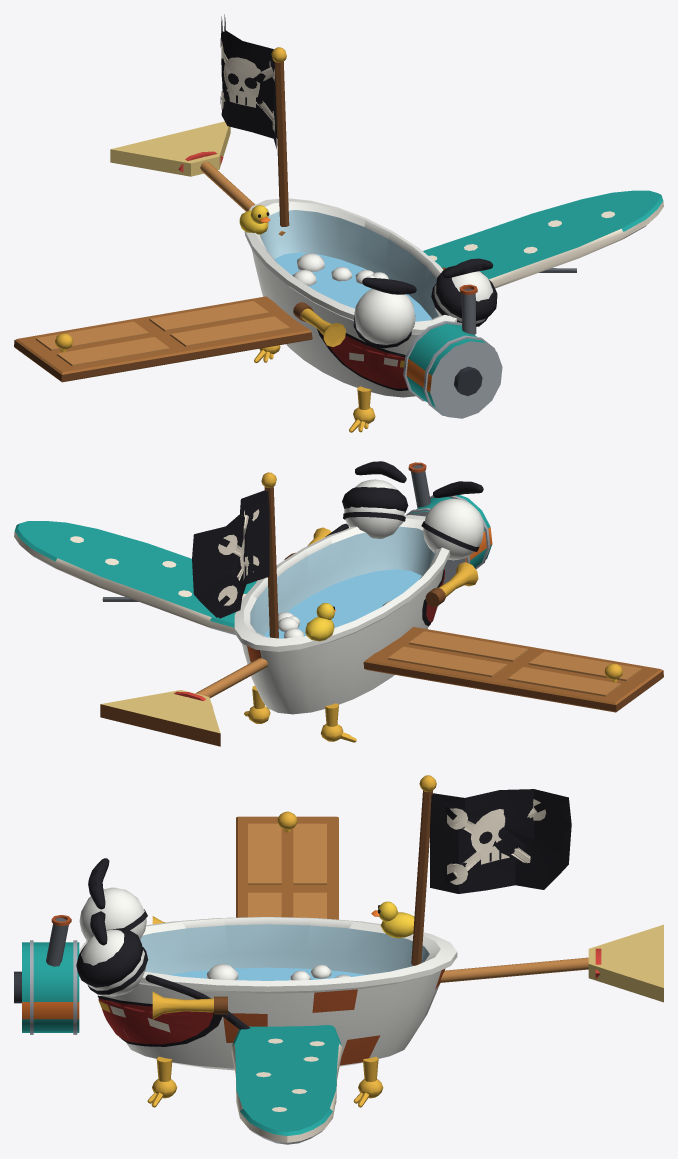
Rendered from PirataBanera.fbx.
3 views of the same model, one above another, from view 1: azimuth 30°, elevation 25°; view 2: azimuth 150°, elevation 25°; view 3: azimuth 270°, elevation 25° (orthographic). The views are drawn at different scales.
Parts seen in each view (by area): view 1: PirataBanera; view 2: PirataBanera; view 3: PirataBanera.
Part boxes in pixels (<box>): PirataBanera: <box>14,14,663,432</box>; PirataBanera: <box>14,461,663,746</box>; PirataBanera: <box>14,775,663,1144</box>.
Size of the model in its own units: 19.74 by 8.42 by 16.4.
1 material, 1 textured.
